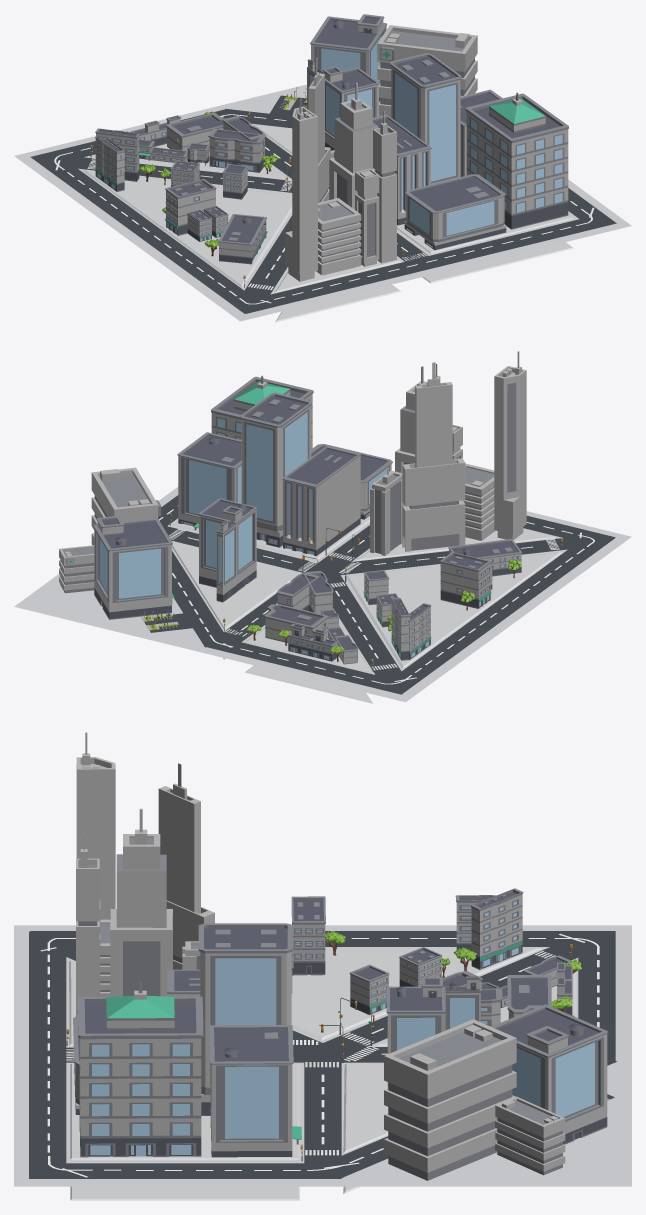
Rendered from map.glb.
The picture shows the model from 3 angles, top to bottom: view 1: azimuth 30°, elevation 25°; view 2: azimuth 150°, elevation 25°; view 3: azimuth 270°, elevation 25°; orthographic projection. The views are drawn at different scales.
Visible parts, largest first — view 1: Roads, skyscraperE, Plane, Building_Base.003, skyscraperB, skyscraperA, Roads.001, low_buildingG, sign_hospital, skyscraperC, low_buildingF, large_buildingD.003 (+18 smaller); view 2: Roads, Plane, Building_Base.003, low_buildingC, skyscraperB, skyscraperC, skyscraperF, low_buildingG, skyscraperD, skyscraperC.001, sign_hospital, Roads.001 (+20 smaller); view 3: Roads, Plane, skyscraperE, sign_hospital, Building_Base.003, skyscraperD, skyscraperB, skyscraperC, low_buildingF, Roads.001, low_buildingC, low_buildingG (+17 smaller).
Boxes of the visible parts, x1,y1,x2,y2 form: Roads: (30, 108, 615, 313); skyscraperE: (465, 92, 568, 229); Plane: (14, 84, 631, 321); Building_Base.003: (83, 125, 573, 292); skyscraperB: (390, 53, 461, 184); skyscraperA: (404, 174, 506, 250); Roads.001: (37, 109, 616, 312); low_buildingG: (285, 97, 317, 281); sign_hospital: (377, 25, 477, 117); skyscraperC: (310, 14, 387, 101); low_buildingF: (329, 82, 378, 209); large_buildingD.003: (165, 179, 228, 241); Roads: (158, 495, 615, 694); Plane: (14, 487, 631, 702); Building_Base.003: (172, 516, 562, 673); low_buildingC: (402, 362, 465, 551); skyscraperB: (240, 392, 311, 547); skyscraperC: (93, 516, 174, 619); skyscraperF: (282, 445, 361, 556); low_buildingG: (494, 351, 526, 539); skyscraperD: (177, 432, 241, 530); skyscraperC.001: (198, 498, 257, 591); sign_hospital: (91, 467, 161, 545); Roads.001: (159, 495, 572, 693); Roads: (29, 931, 616, 1178); Plane: (14, 925, 631, 1186); skyscraperE: (77, 982, 203, 1157); sign_hospital: (384, 1019, 516, 1180); Building_Base.003: (69, 948, 576, 1159); skyscraperD: (209, 1025, 301, 1157); skyscraperB: (198, 923, 292, 1115); skyscraperC: (491, 1004, 608, 1144); low_buildingF: (110, 808, 172, 996); Roads.001: (29, 932, 615, 1178); low_buildingC: (158, 763, 214, 969); low_buildingG: (76, 732, 115, 919).
Bounding box in the file's own units: 4.96 × 2.59 × 4.96.
Materials: 443 (10 with a texture image).
